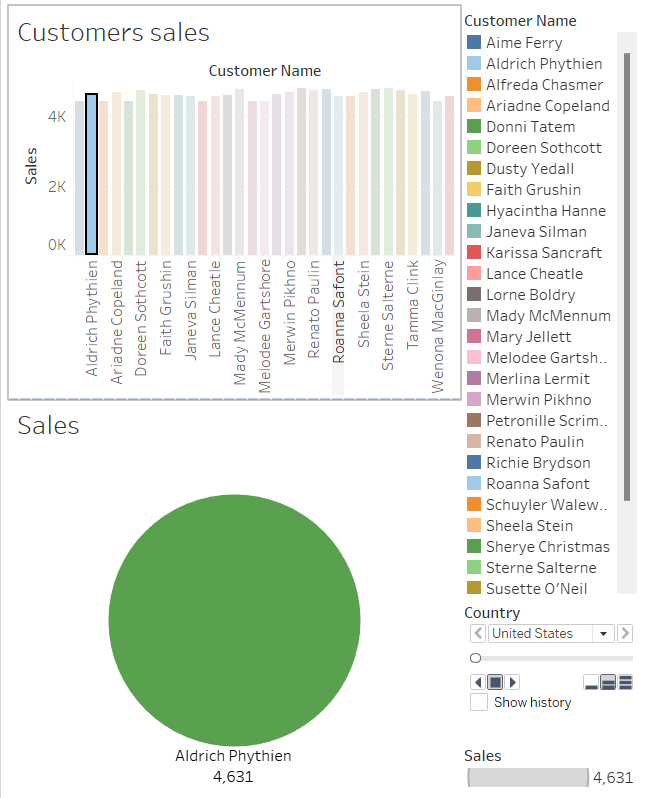

This screenshot's page, from the dashboard's own definition file:
{"tool":"tableau","page":{"name":"Dashboard 1","canvas":[650,860],"ordinal":0},"visuals":[{"type":"worksheet","title":"Customers sales","mark":"Automatic","rows":["Sales"],"cols":["Customer Name"],"box":[8,8.6,451,421.4]},{"type":"legend","title":"Customers sales","param":"[federated.1lhccyc02n0rhk14r8fi21dwnrg6].[none:Customer Name:nk]","box":[459,8.6,183,634.8]},{"type":"worksheet","title":"Sales","mark":"Pie","box":[8,430,451,421.4]},{"type":"currpage","title":"Customers sales","box":[459,643.4,183,127.6]},{"type":"legend","title":"Sales","param":"[federated.1lhccyc02n0rhk14r8fi21dwnrg6].[none:Course Name:nk]","box":[459,771,183,25.7]},{"type":"legend","title":"Sales","param":"[federated.1lhccyc02n0rhk14r8fi21dwnrg6].[sum:Sales:qk]","box":[459,796.7,183,54.7]}]}

Visuals, with their boxes on the page's 650x860 design canvas (x1, y1, x2, y2). These are canvas units, not pixel positions in the 651x798 screenshot, which may show the page scaled, cropped or inside an application window:
"Customers sales" worksheet: crop(8, 9, 459, 430)
"Customers sales" legend: crop(459, 9, 642, 643)
"Sales" worksheet (Pie marks): crop(8, 430, 459, 851)
"Customers sales" currpage: crop(459, 643, 642, 771)
"Sales" legend: crop(459, 771, 642, 797)
"Sales" legend: crop(459, 797, 642, 851)
